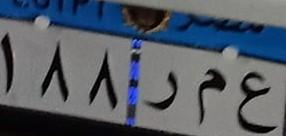1: (0, 29, 22, 94)
8: (35, 40, 77, 102), (87, 46, 126, 107)
ain: (233, 69, 277, 135)
meem: (192, 66, 228, 127)
raa: (142, 66, 184, 113)
